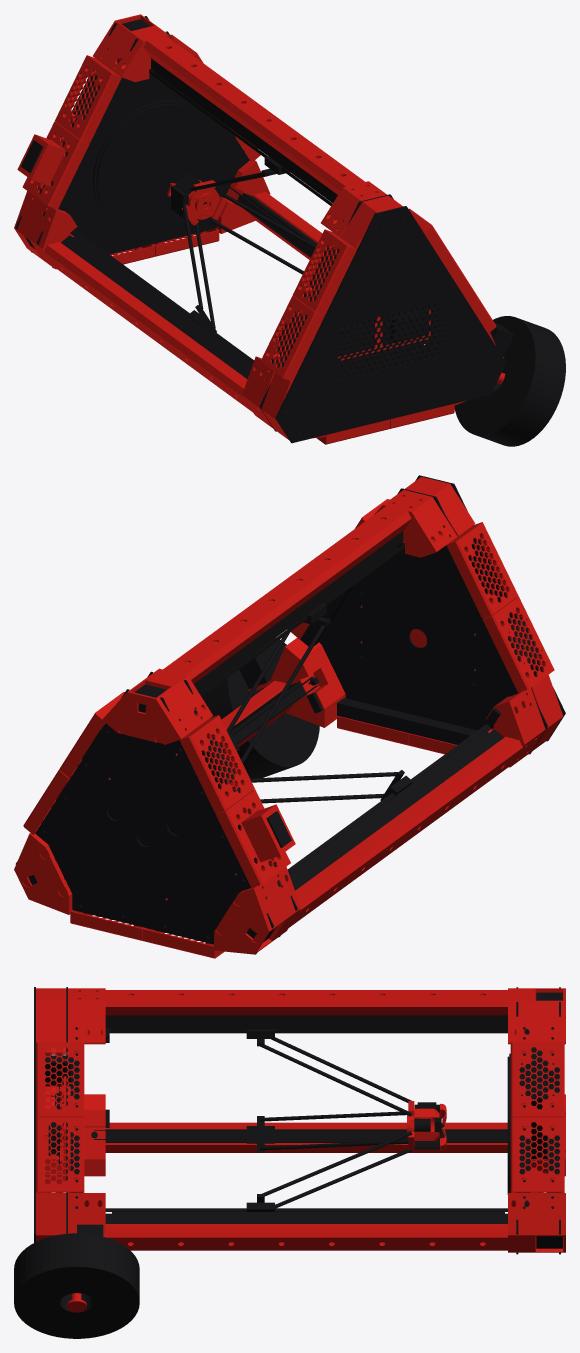
The model's file is DVF_ACLP_Assembly.obj.
3 views of the same model, one above another, from view 1: azimuth 30°, elevation 25°; view 2: azimuth 150°, elevation 25°; view 3: azimuth 270°, elevation 25° (orthographic). The views are drawn at different scales.
Visible parts, largest first — view 1: lid, glass_220, filament_spool_1kg, bed_deck, bottom_skirt_plain_21, top_skirt_plain_21, corner_bottom_C, tower_A, top_skirt_fan_20, corner_bottom_A, bottom_skirt_power_20, tower_C (+28 smaller); view 2: bottom_panel, top_panel, corner_bottom_C, filament_spool_1kg, corner_bottom_A, bottom_skirt_plain_21, corner_top_B, top_skirt_plain_21, tower_A, top_skirt_fan_20, corner_bottom_B, corner_top_C (+33 smaller); view 3: filament_spool_1kg, tower_C, tower_B, bottom_skirt_fan_10, bottom_skirt_badge_11, corner_bottom_B, corner_bottom_C, top_skirt_plain_10, top_skirt_plain_11, pillar_B0, pillar_B1, pillar_B2 (+35 smaller).
Part boxes in pixels (x1,y1,x2,y2): lid: (275,206,506,443); glass_220: (96,104,215,231); filament_spool_1kg: (454,316,565,446); bed_deck: (36,31,249,268); bottom_skirt_plain_21: (55,55,121,143); top_skirt_plain_21: (293,229,356,315); corner_bottom_C: (93,14,176,82); tower_A: (61,235,251,378); top_skirt_fan_20: (260,295,324,381); corner_bottom_A: (14,191,77,269); bottom_skirt_power_20: (22,121,89,209); tower_C: (151,58,337,201); bottom_panel: (15,689,273,954); top_panel: (319,488,547,754); corner_bottom_C: (102,668,212,744); filament_spool_1kg: (201,638,319,778); corner_bottom_A: (214,866,301,954); bottom_skirt_plain_21: (179,715,254,813); corner_top_B: (269,637,345,727); top_skirt_plain_21: (446,522,518,618); tower_A: (290,729,503,890); top_skirt_fan_20: (482,596,554,692); corner_bottom_B: (14,833,72,914); corner_top_C: (374,490,457,557); filament_spool_1kg: (14,1233,139,1338); tower_C: (105,1015,507,1025); tower_B: (105,1214,507,1223); bottom_skirt_fan_10: (510,1042,564,1117); bottom_skirt_badge_11: (510,1117,564,1192); corner_bottom_B: (508,1193,565,1252); corner_bottom_C: (508,988,565,1044); top_skirt_plain_10: (36,1042,84,1117); top_skirt_plain_11: (36,1117,84,1192); pillar_B0: (407,1224,507,1250); pillar_B1: (307,1224,407,1250); pillar_B2: (206,1224,306,1250).
Bounding box in the file's own units: 554 × 493 × 878.
